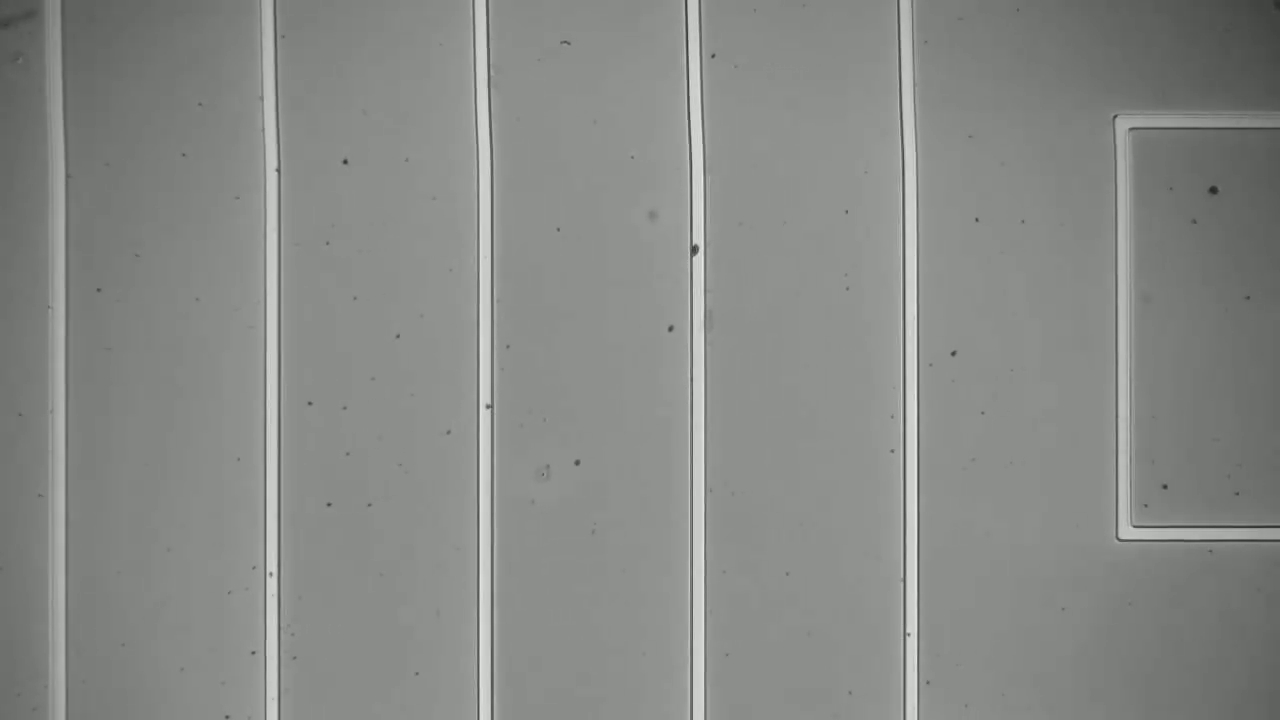stains_enbedded: (684, 238, 715, 262)
